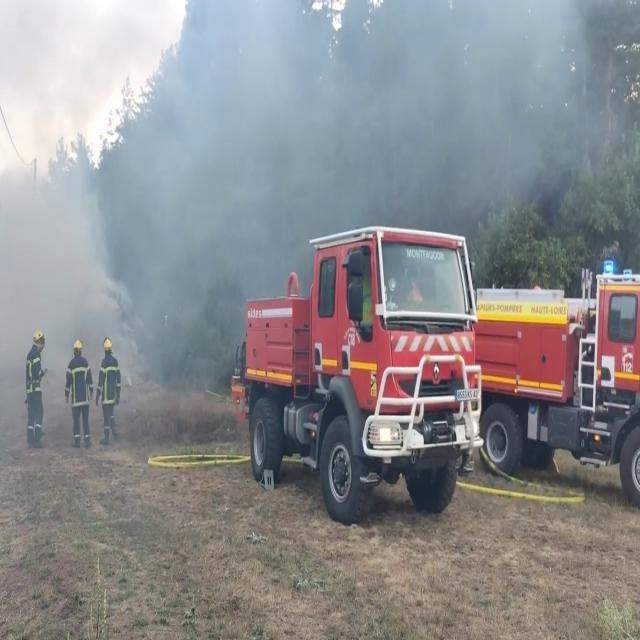Smoke: (3, 1, 638, 260), (0, 56, 130, 364)
